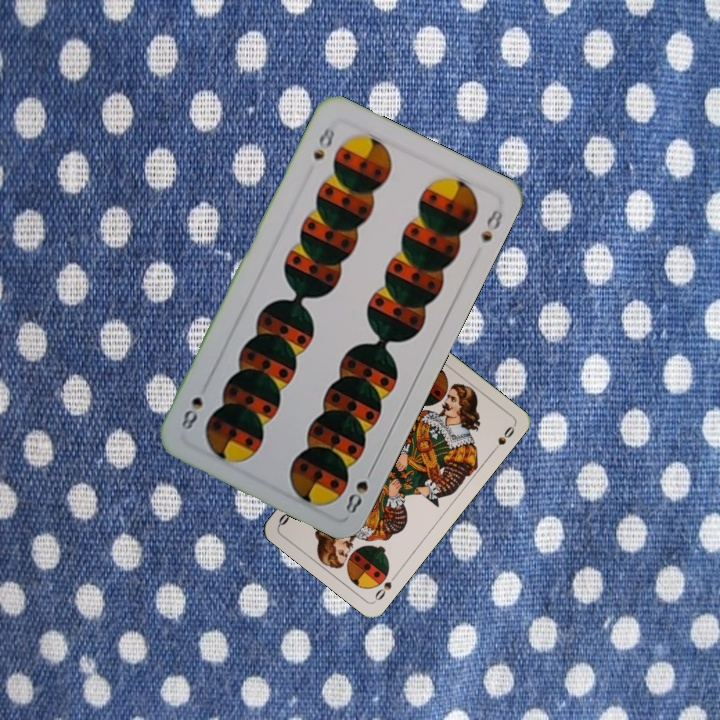S8: (341, 462, 377, 517), (309, 121, 338, 163)
SO: (371, 569, 400, 603)
